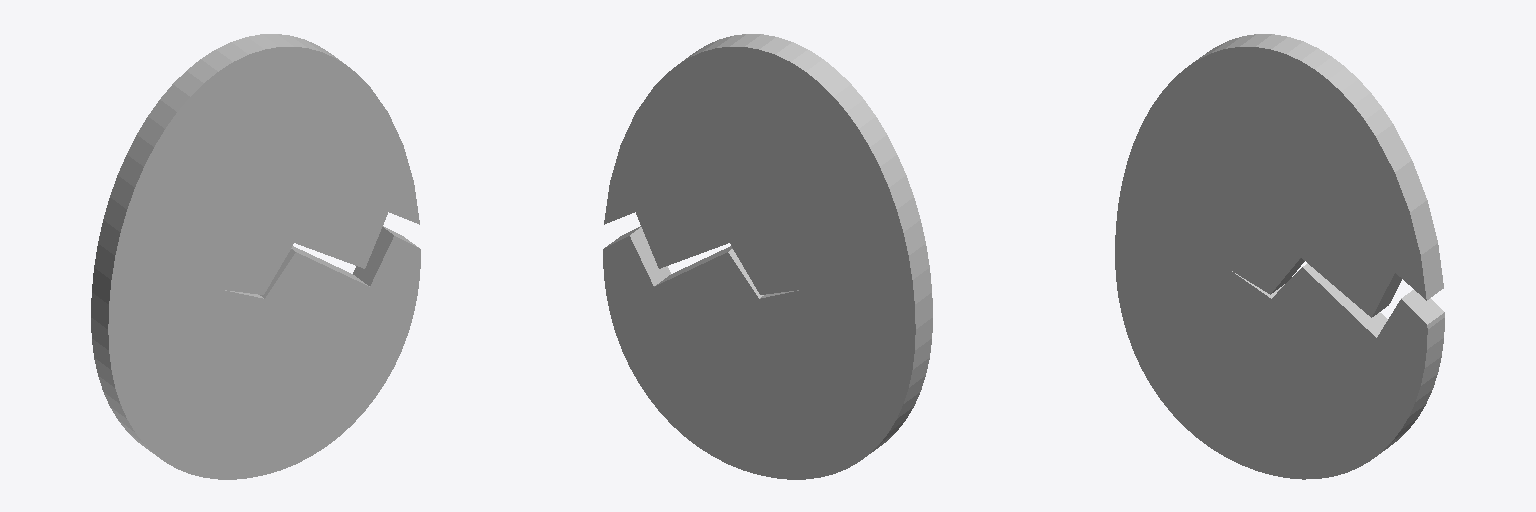
The model's file is dino_egg.obj.
The picture shows the model from 3 angles: view 1: azimuth 30°, elevation 25°; view 2: azimuth 150°, elevation 25°; view 3: azimuth 330°, elevation 25°; orthographic projection.
Visible parts, largest first — view 1: dino_egg:Mesh; view 2: dino_egg:Mesh; view 3: dino_egg:Mesh.
Part boxes in pixels (x1,y1,x2,y2): dino_egg:Mesh: (91, 34, 420, 479); dino_egg:Mesh: (603, 34, 932, 479); dino_egg:Mesh: (1115, 34, 1444, 479).
Bounding box in the file's own units: 16.65 × 21.66 × 1.61.